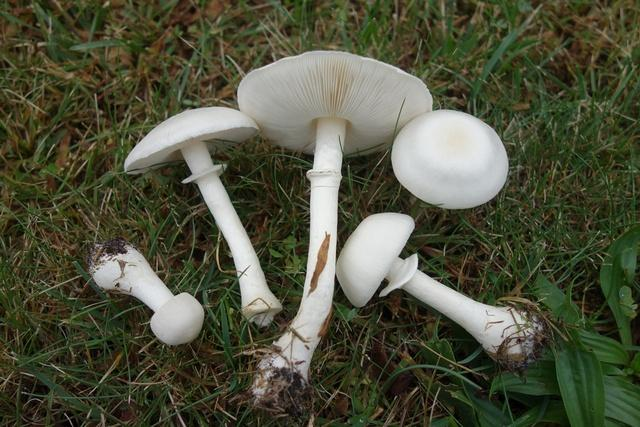poisonous_mushroom: (235, 48, 434, 416), (122, 105, 283, 328), (335, 210, 549, 370), (84, 235, 205, 346), (390, 108, 509, 210)
